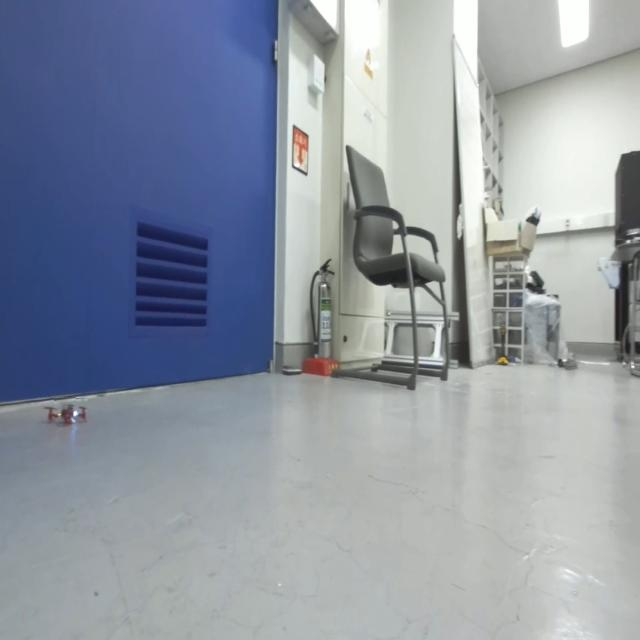crazyflie: (42, 396, 88, 431)
